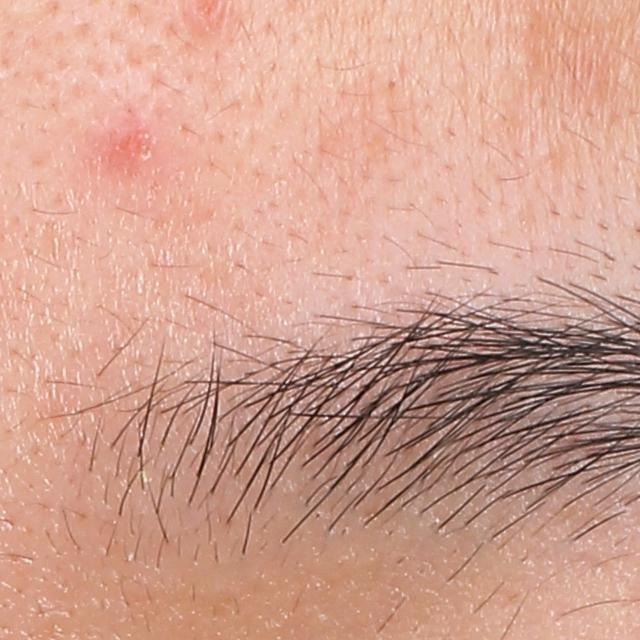comedo: (495, 39, 550, 84), (534, 141, 557, 166)
